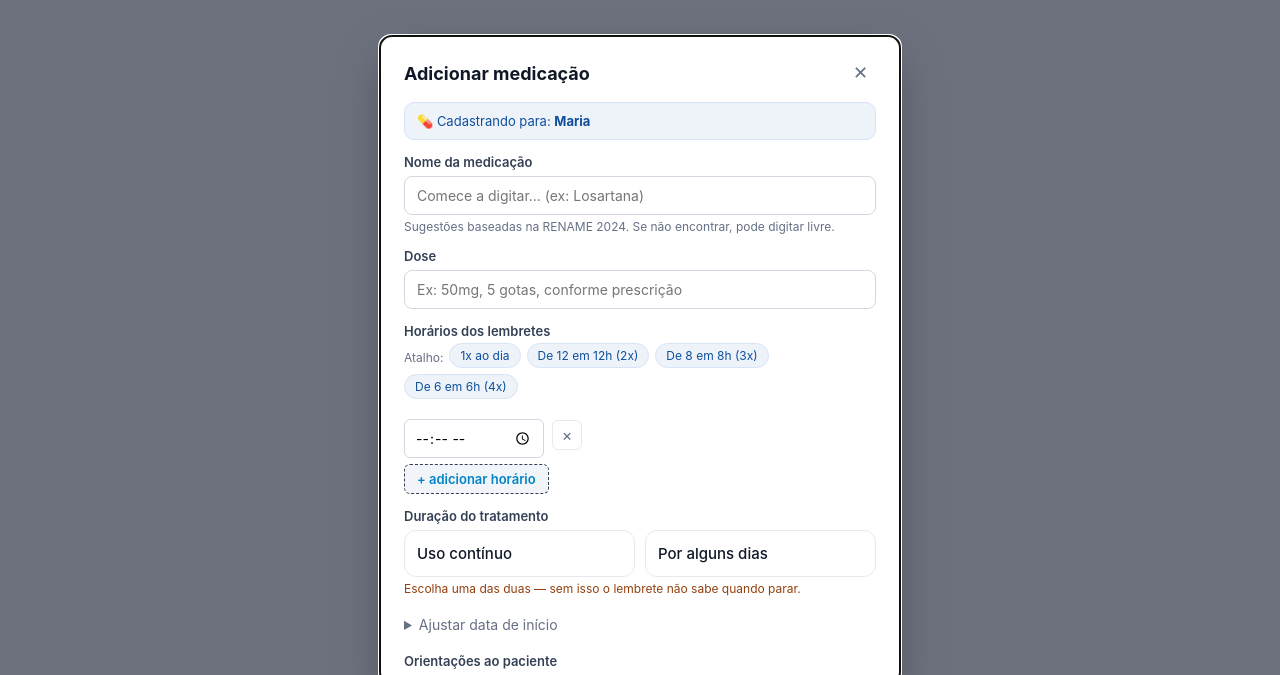
Test: duração no formulário da web › recusa salvar enquanto ninguém escolheu
In the field labelled "Nome da medicação": x=640, y=196 [404,176,876,215], type "Amoxicilina"
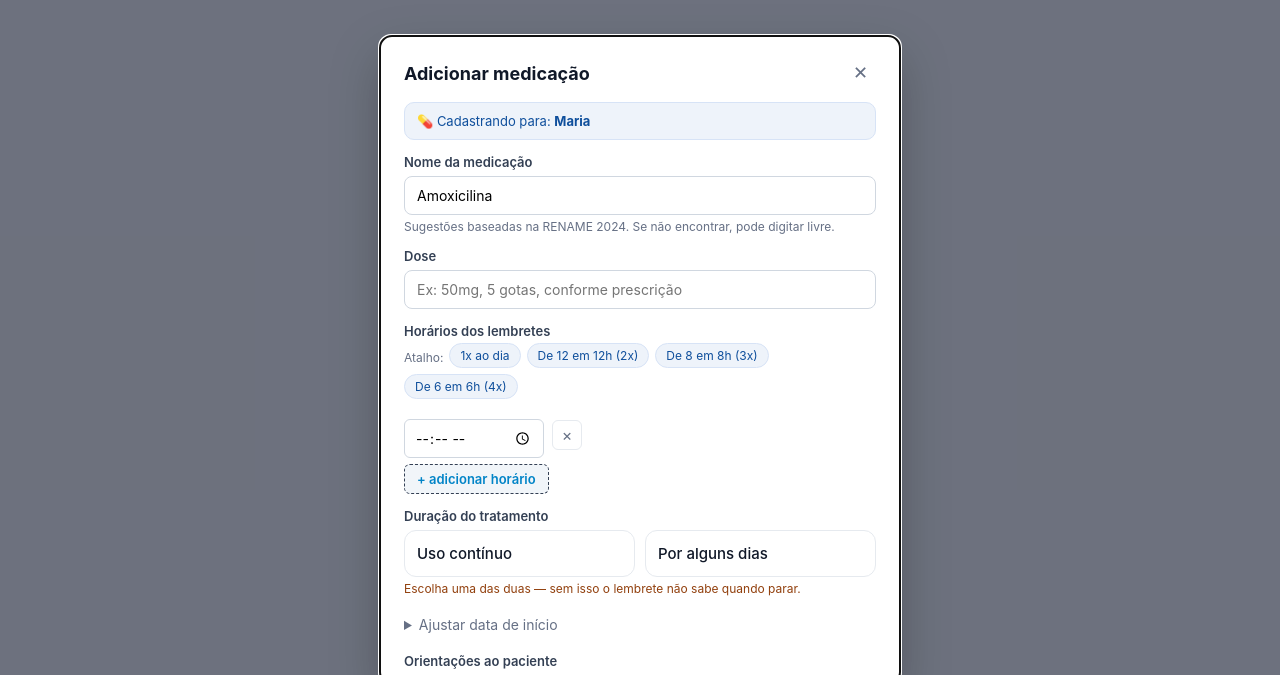
In the field labelled "Dose": x=640, y=290 [404,270,876,309], type "500mg"
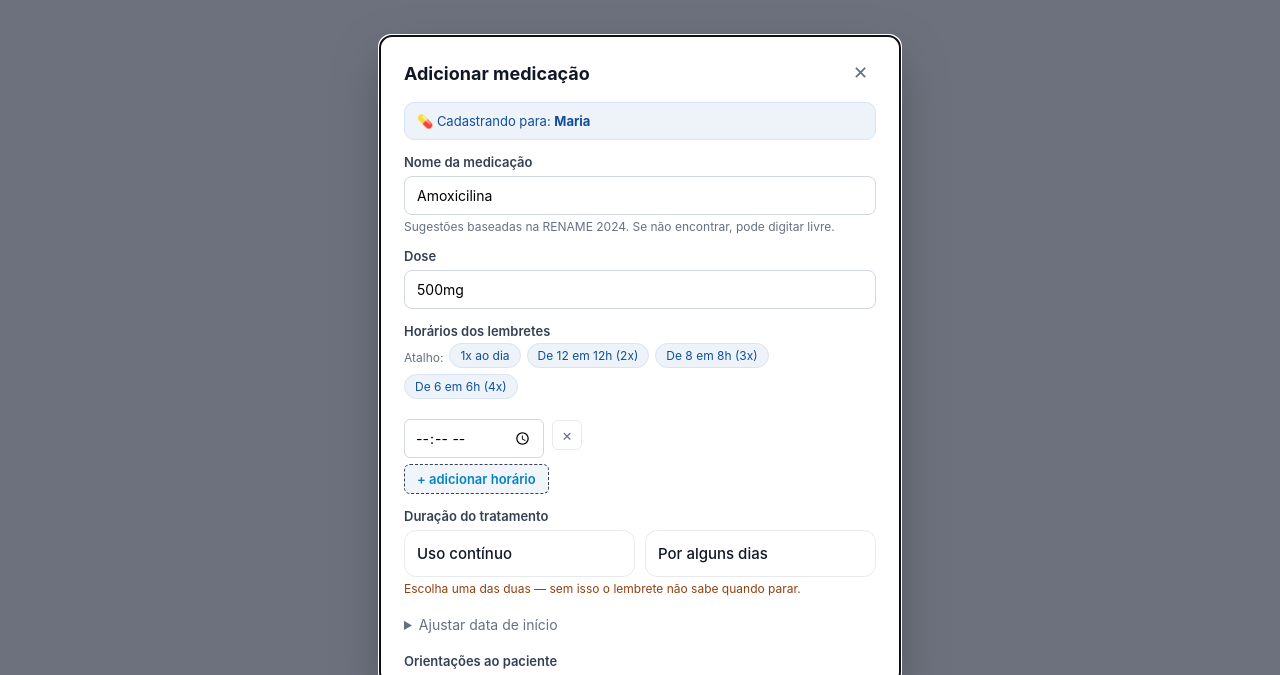
Click the button "1x ao dia": x=485, y=356 [449,343,520,368]
(page scrolled)
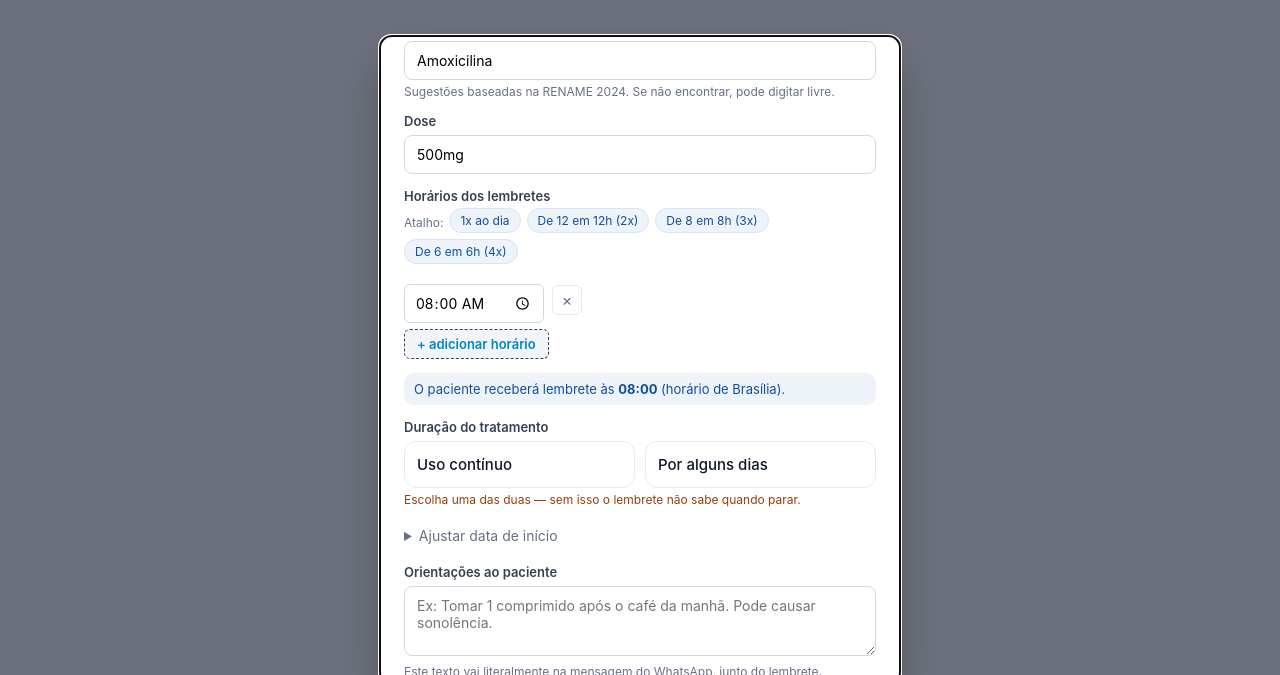
Submit the form
(page scrolled)
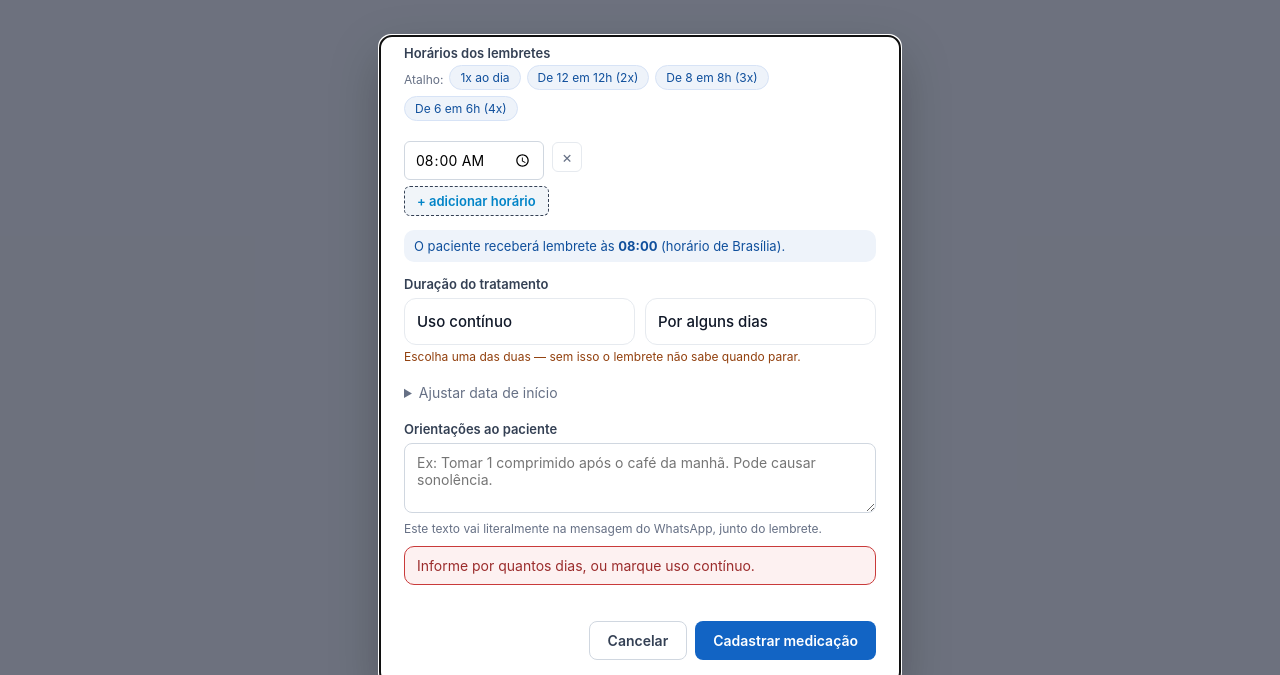
Expected: the text "Informe por quantos dias, ou marque uso contínuo." is shown, [404,546,876,585]
